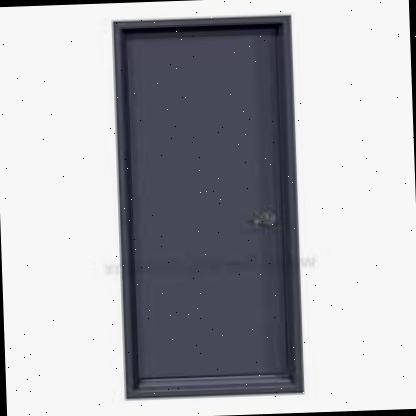door: (102, 1, 312, 402)
